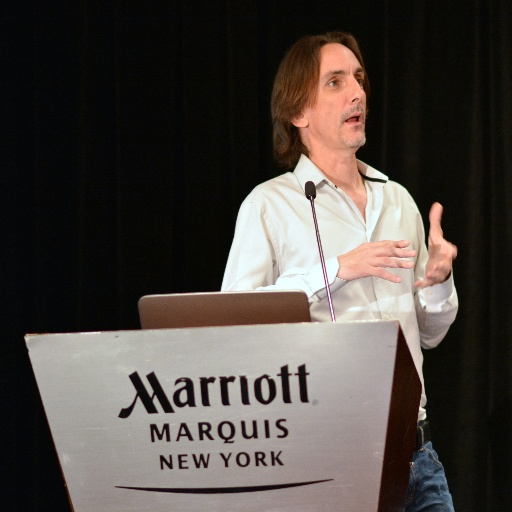hand: (414, 202, 456, 285), (338, 239, 417, 283)
